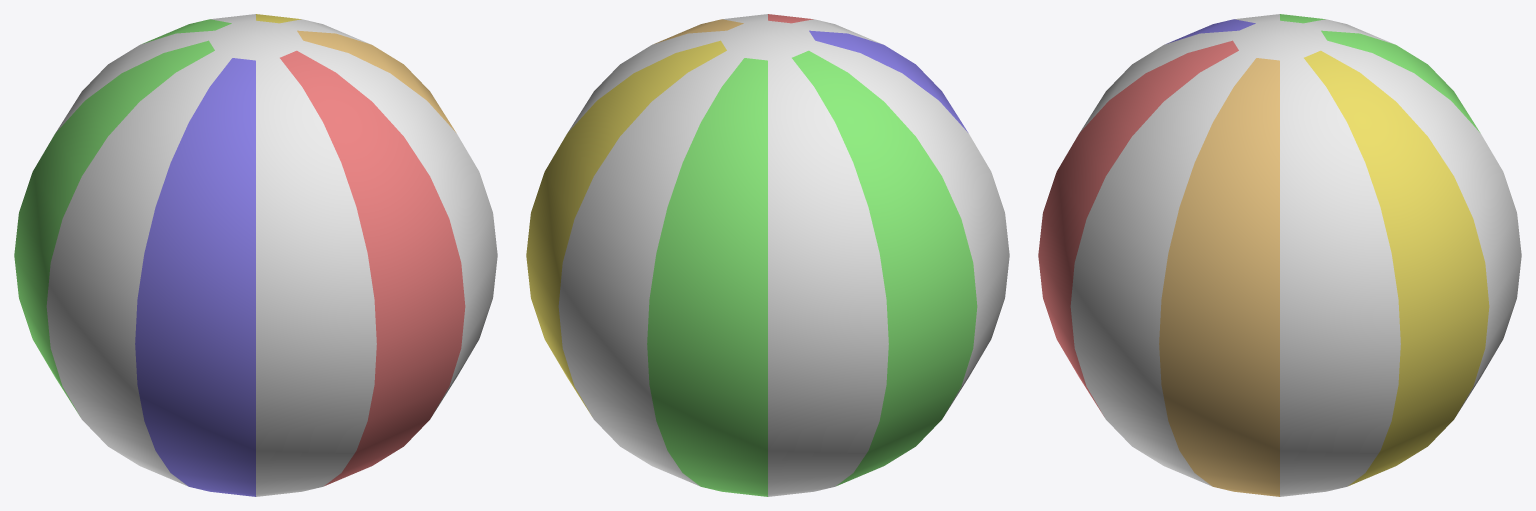
File: Beach Ball.fbx
3 views of the same model, side by side, from view 1: azimuth 30°, elevation 25°; view 2: azimuth 150°, elevation 25°; view 3: azimuth 270°, elevation 25° (orthographic).
Parts seen in each view (by area): view 1: Sphere; view 2: Sphere; view 3: Sphere.
Part boxes in pixels (x1,y1,x2,y2): Sphere: (14,14,497,496); Sphere: (526,14,1009,496); Sphere: (1038,14,1521,496).
Bounding box in the file's own units: 200 × 200 × 200.
